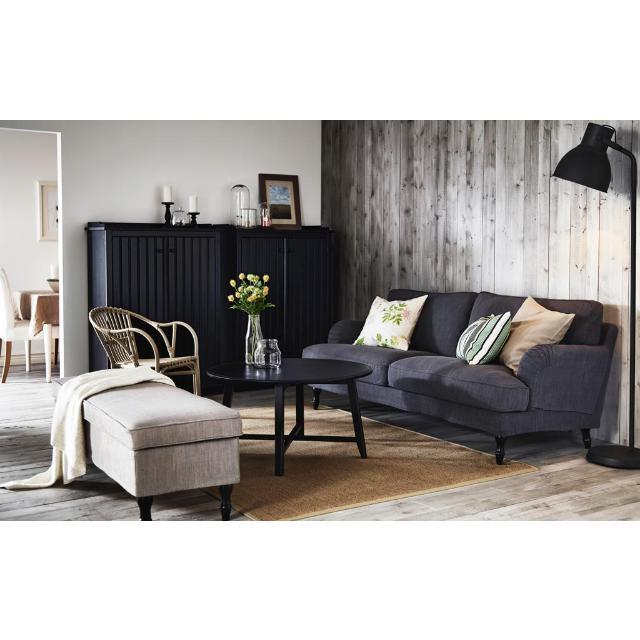chair: (90, 306, 201, 395), (1, 266, 31, 382)
couch: (302, 289, 618, 460)
dresser: (88, 222, 334, 393)
lamp: (555, 123, 640, 467)
pillow: (500, 295, 575, 375), (354, 294, 428, 350), (456, 312, 511, 364), (228, 273, 275, 314)
rug: (233, 405, 535, 520)
table: (208, 358, 372, 475)
wall-art: (259, 173, 301, 229), (36, 180, 59, 240)
